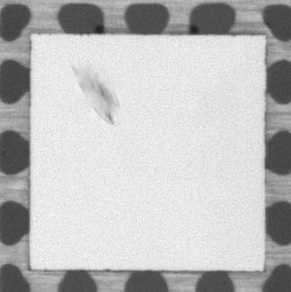DIE_INK: (67, 53, 116, 122)
